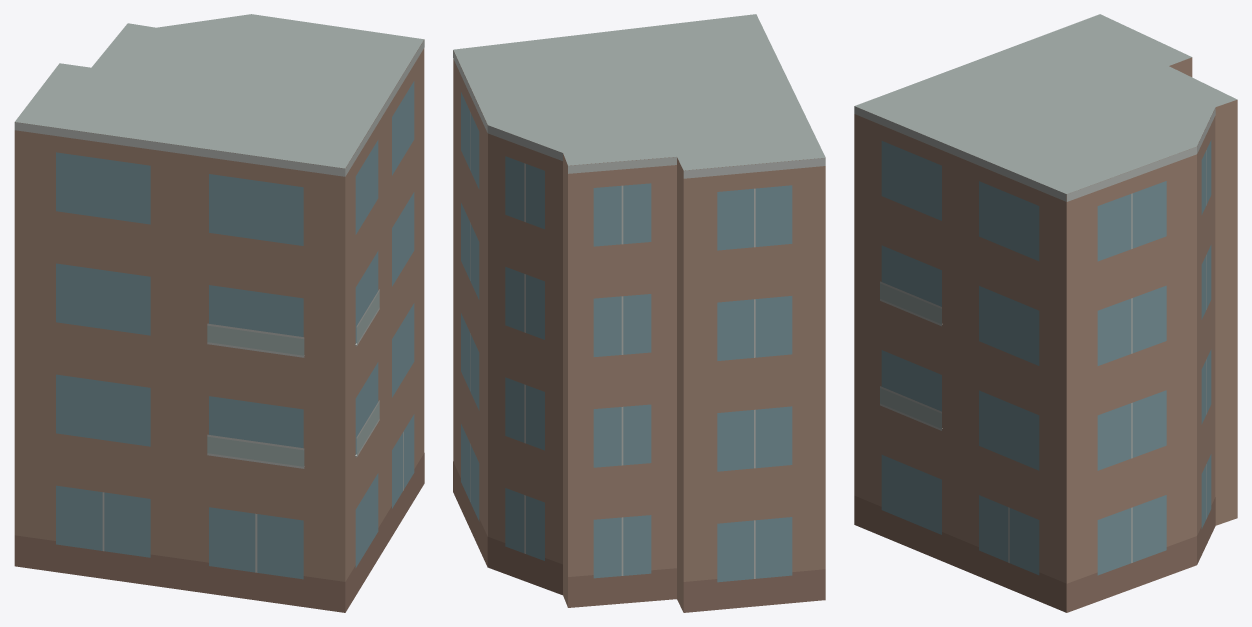
File: survey-upis-32628169.glb
3 renders of one model, left to right at view 1: azimuth 30°, elevation 25°; view 2: azimuth 150°, elevation 25°; view 3: azimuth 270°, elevation 25°, orthographic. The views are drawn at different scales.
Parts seen in each view (by area): view 1: survey-upis-32628169.tmp; view 2: survey-upis-32628169.tmp; view 3: survey-upis-32628169.tmp.
Boxes of the visible parts, x1,y1,x2,y2 form: survey-upis-32628169.tmp: [14, 14, 424, 612]; survey-upis-32628169.tmp: [453, 14, 825, 612]; survey-upis-32628169.tmp: [854, 14, 1237, 612].
Size of the model in its own units: 12.1 by 13.1 by 10.88.
